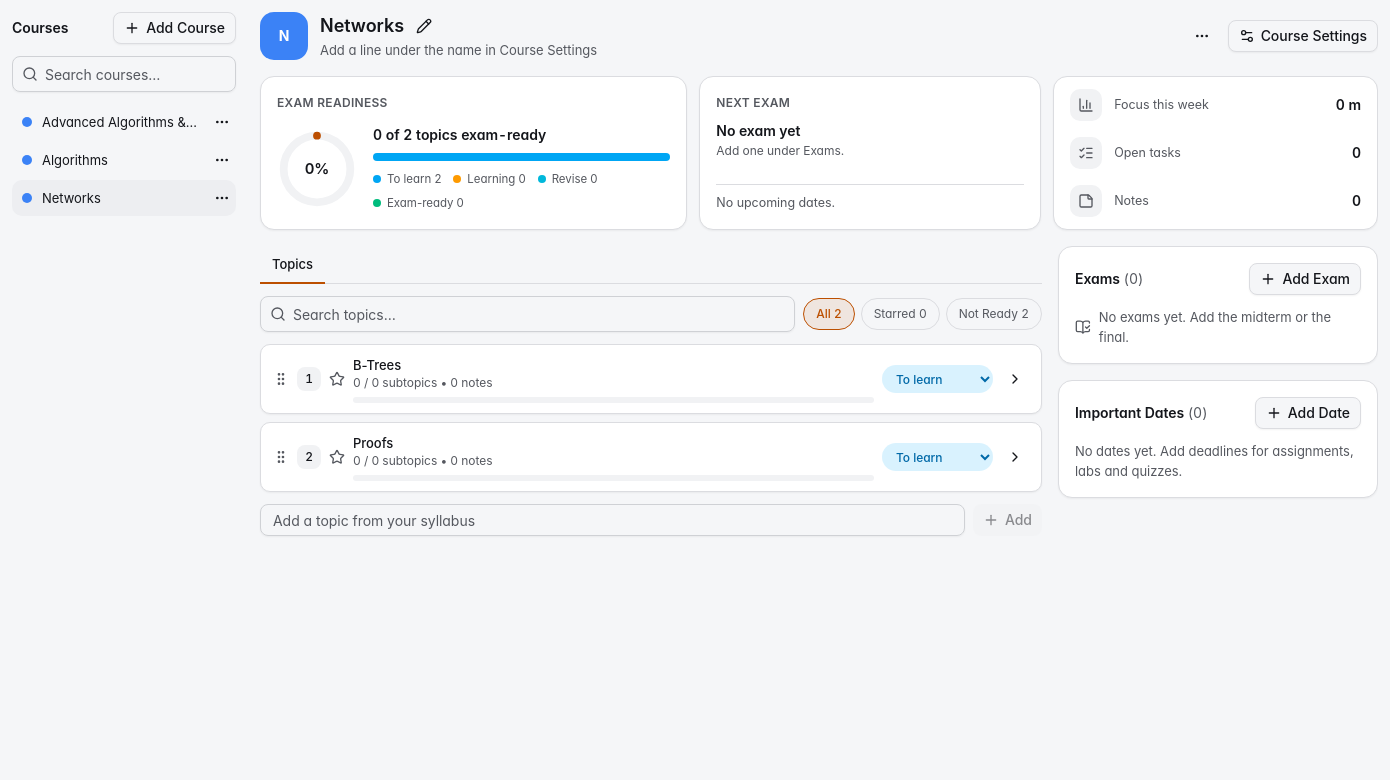
Test case: the Course page › the student sets the status and star, and the chips filter
Earlier steps of the test are not shown.
Expected: the heading "Networks" is shown, [320,12,438,40]
Click the button named "Star B-Trees" at (337, 379), box [329,371,345,387]
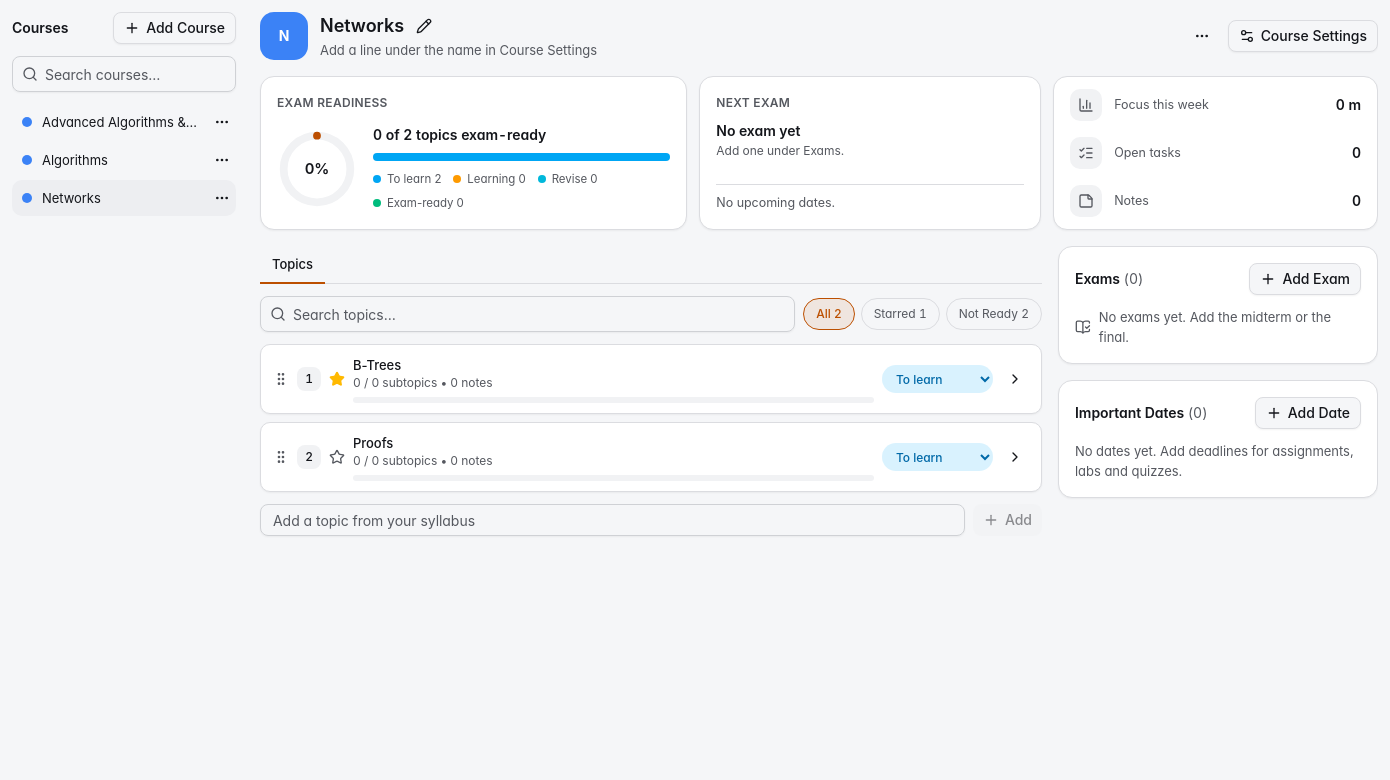
Now the button named "Unstar B-Trees" is pressed, box [329,371,345,387]
Select "Exam-ready" in the dropdown named "Status of Proofs" at (938, 457), box [882,443,993,471]
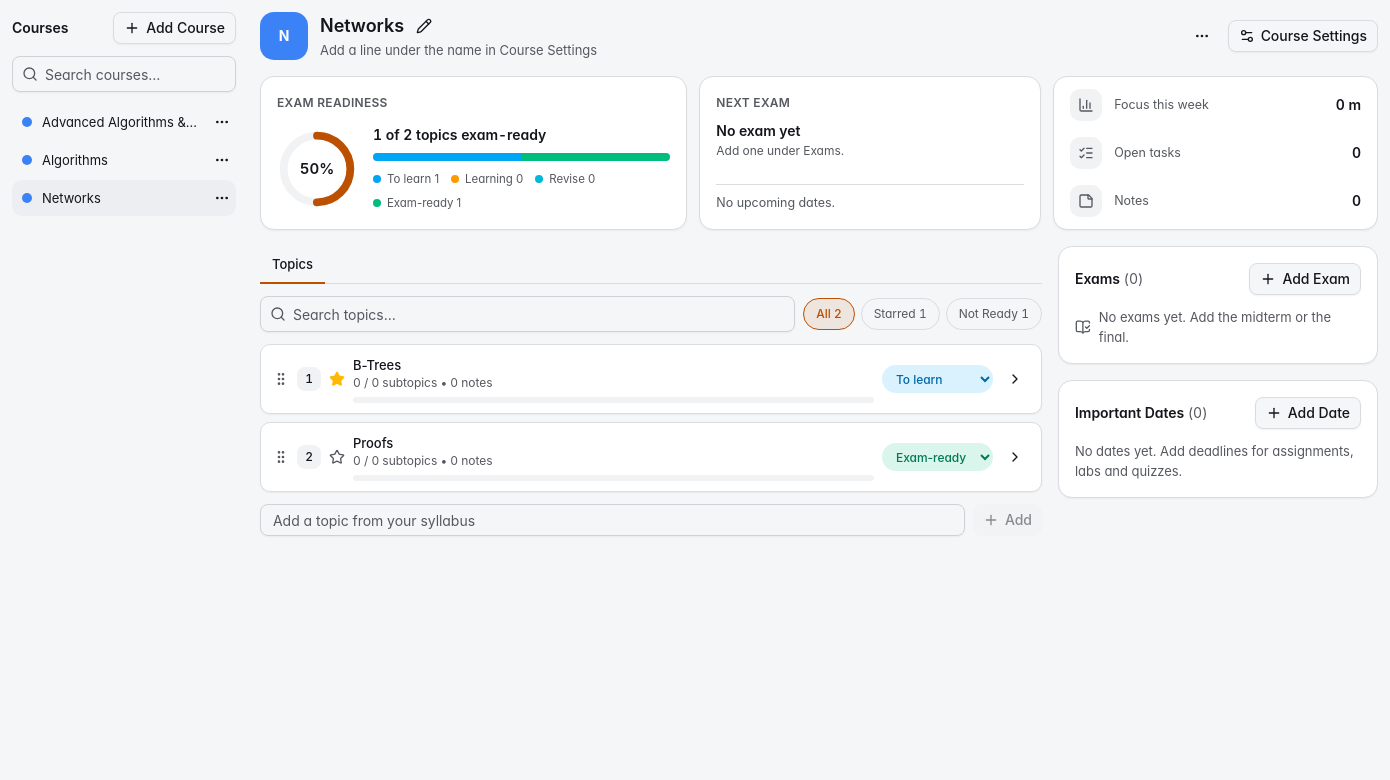
Click the button "Starred 1" at (900, 314), box [861,298,940,330]
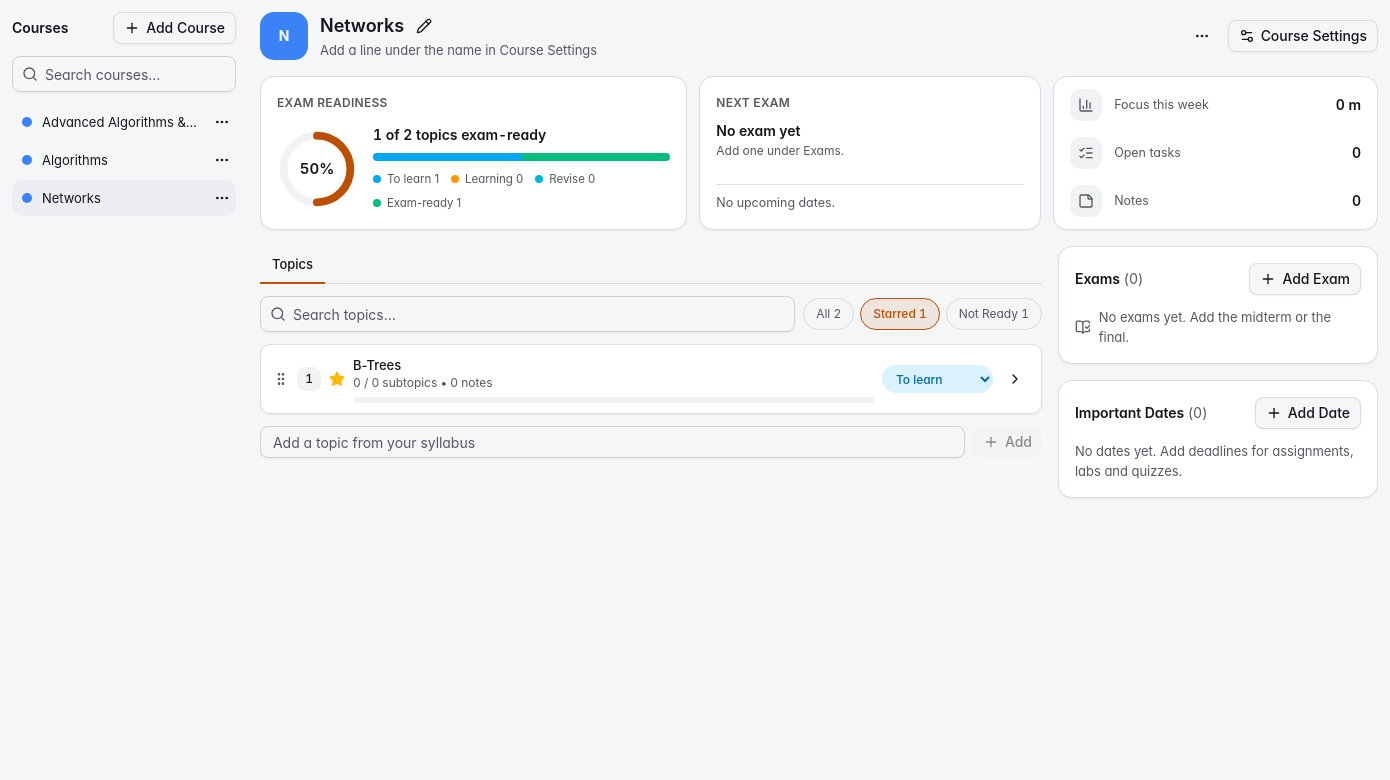
Now the text "Proofs" is gone
Click the button "Not Ready 1" at (994, 314), box [946,298,1042,330]
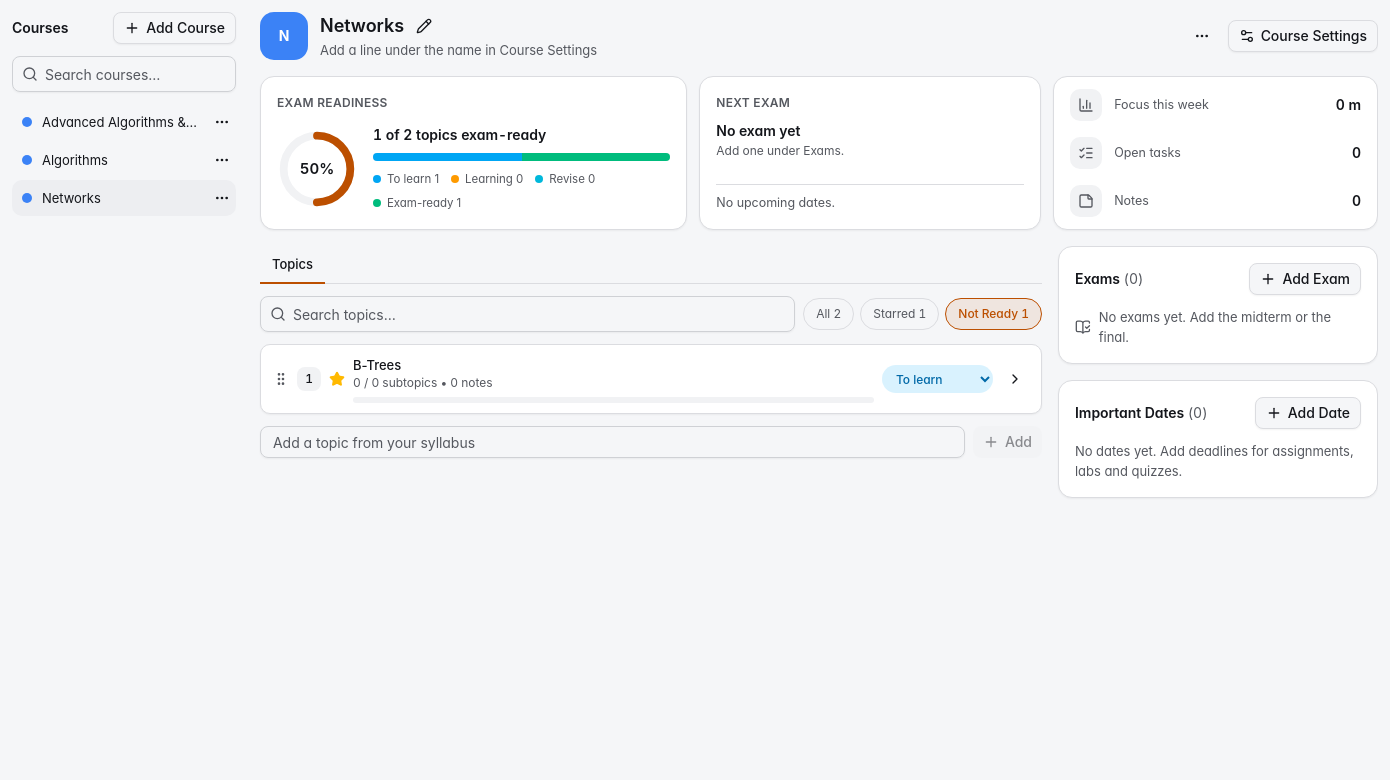
Expected: the text "Proofs" is not shown
Expected: the text "B-Trees" is shown, [353,357,401,373]
Click the button "All 2" at (829, 314), box [803,298,854,330]
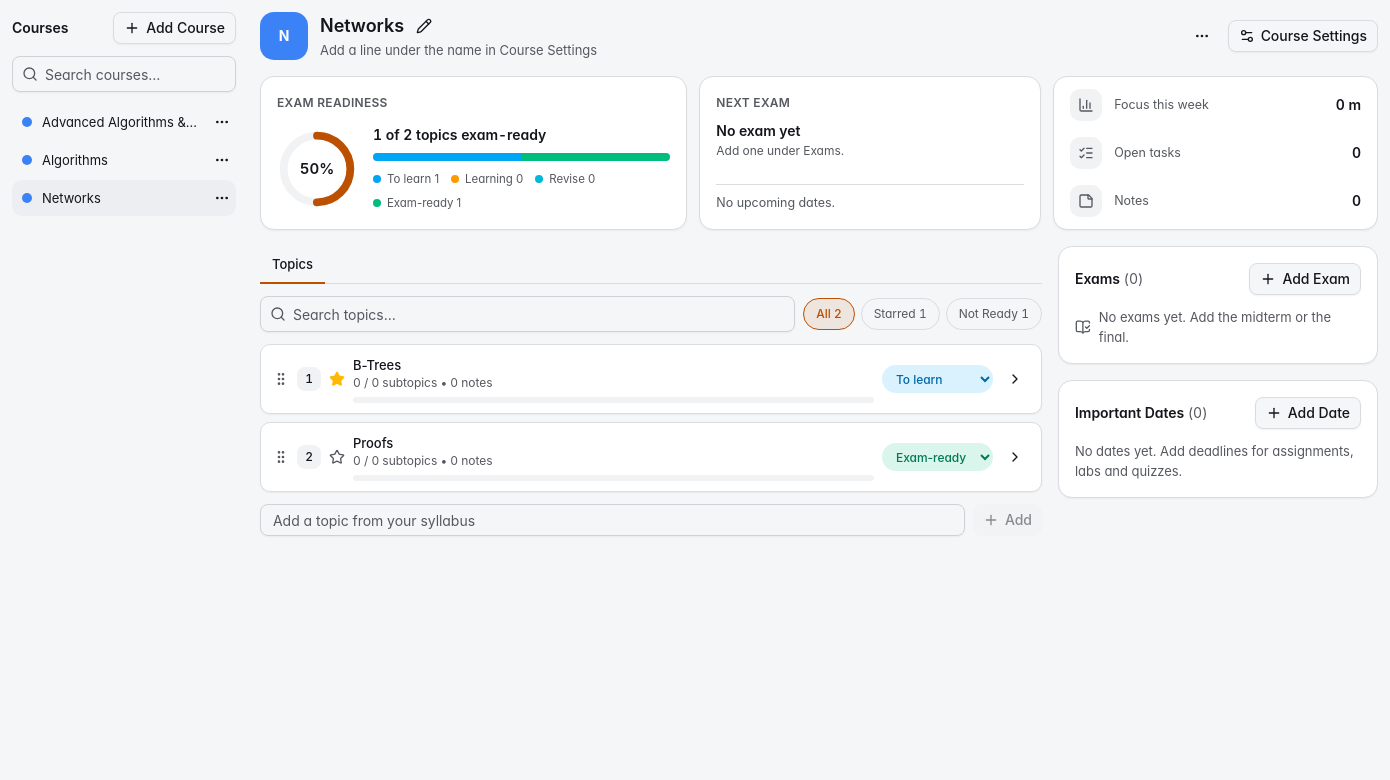
Type "proof" into the field labelled "Search topics" at (528, 314), box [260,296,795,332]
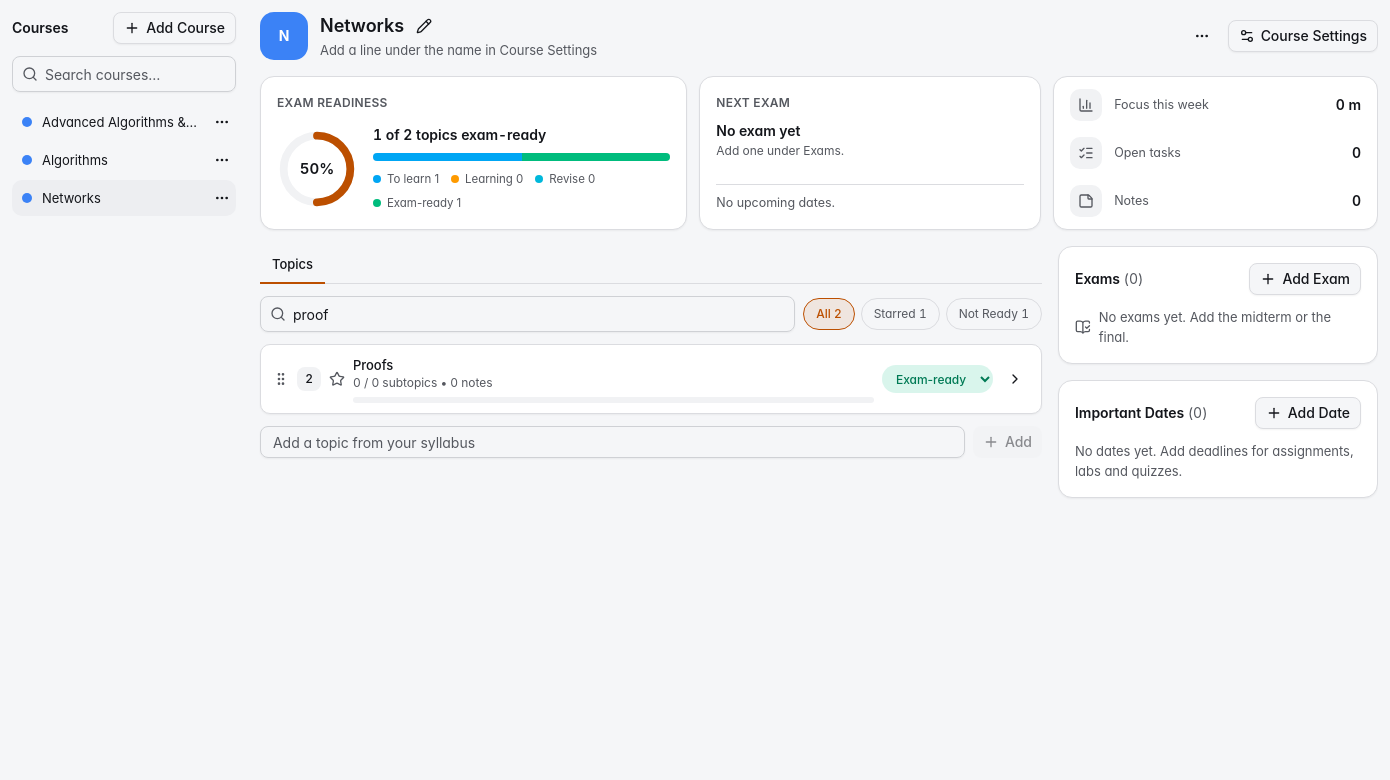
Now the text "Proofs" is shown, box [353,357,393,373]
Now the text "B-Trees" is gone
